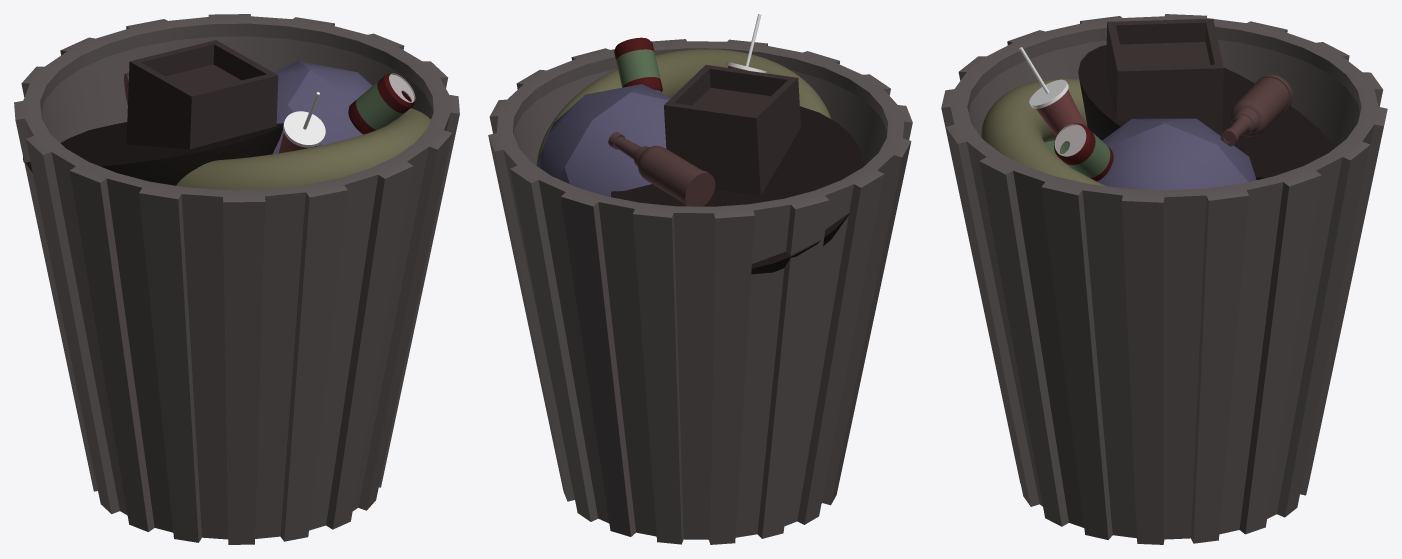
The model's file is lixeira_cheia.fbx.
The picture shows the model from 3 angles, left to right: view 1: azimuth 30°, elevation 25°; view 2: azimuth 150°, elevation 25°; view 3: azimuth 270°, elevation 25°; orthographic projection. The views are drawn at different scales.
Visible parts, largest first — view 1: Cylinder.014, Cylinder; view 2: Cylinder.014, Cylinder; view 3: Cylinder.014, Cylinder.
Part boxes in pixels (x1,y1,x2,y2): Cylinder.014: (14,14,459,544); Cylinder: (23,40,430,189); Cylinder.014: (488,39,912,544); Cylinder: (536,14,864,274); Cylinder.014: (941,14,1387,544); Cylinder: (981,18,1334,190).
Bounding box in the file's own units: 94.6 × 103 × 94.6.
